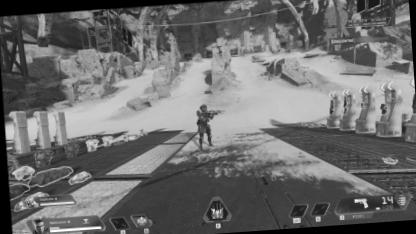Target: (192, 103, 214, 148)
